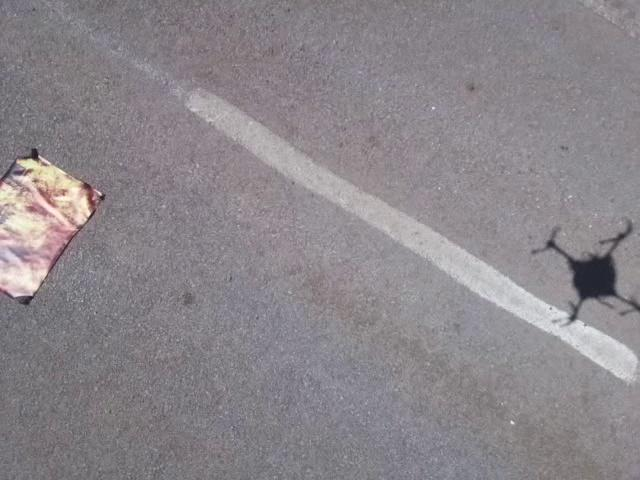fire-poster: (0, 146, 106, 306)
